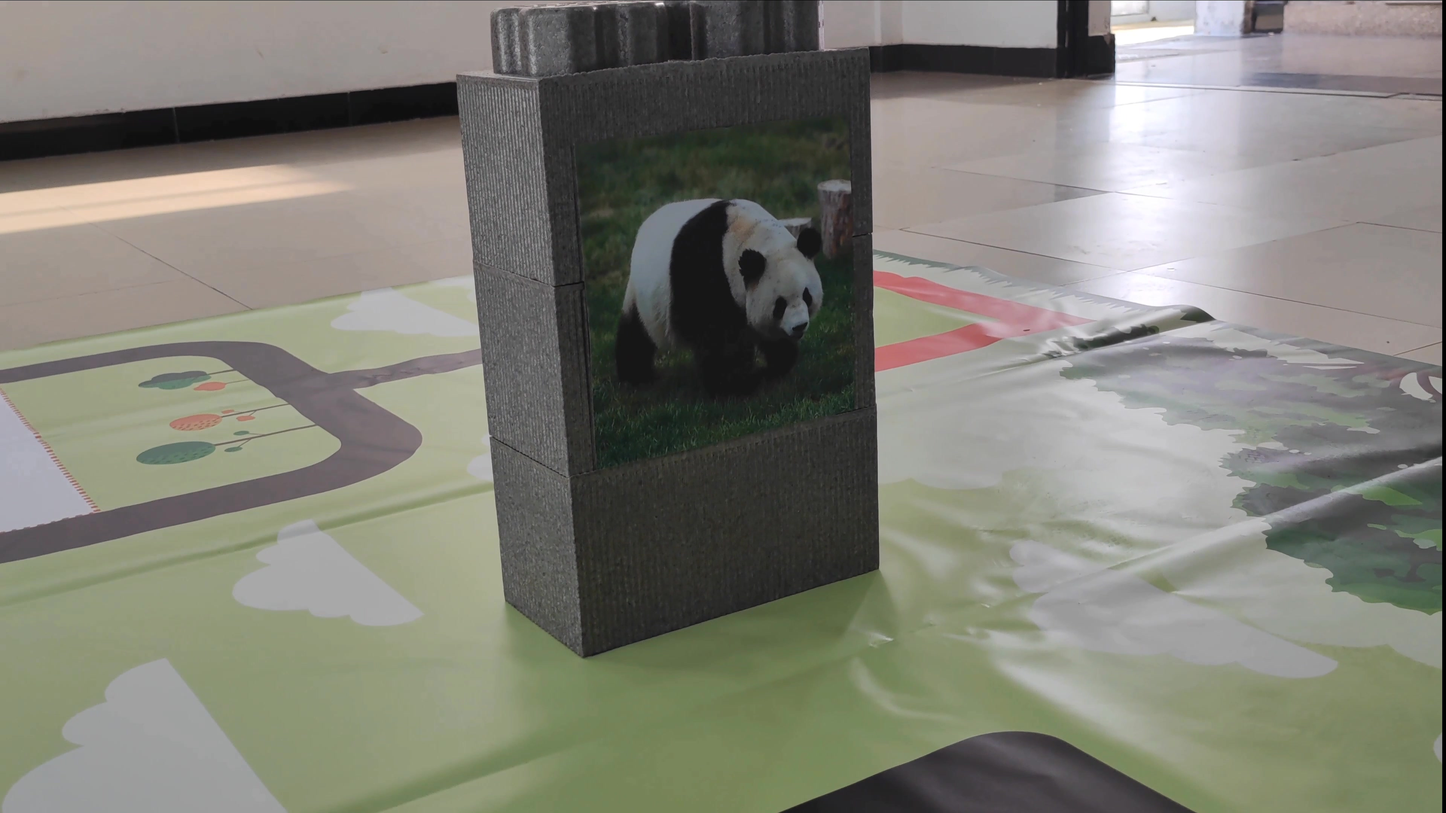panda: (570, 140, 850, 439)
